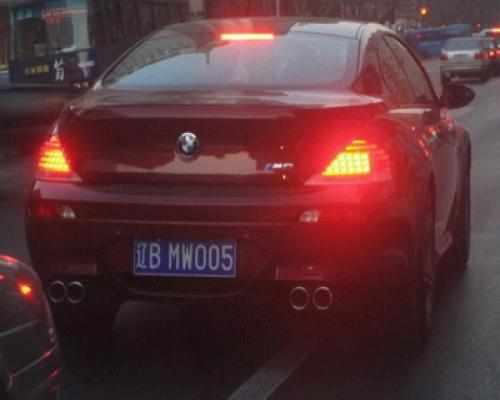Carplate: (126, 226, 248, 284)
